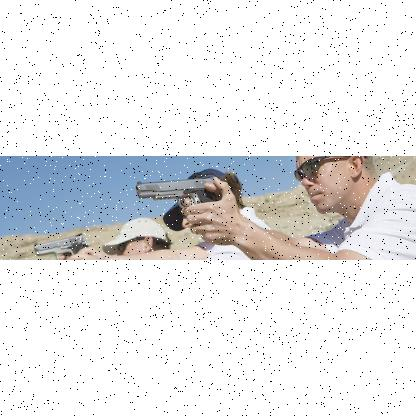gun: (132, 174, 228, 246), (32, 232, 92, 260)
